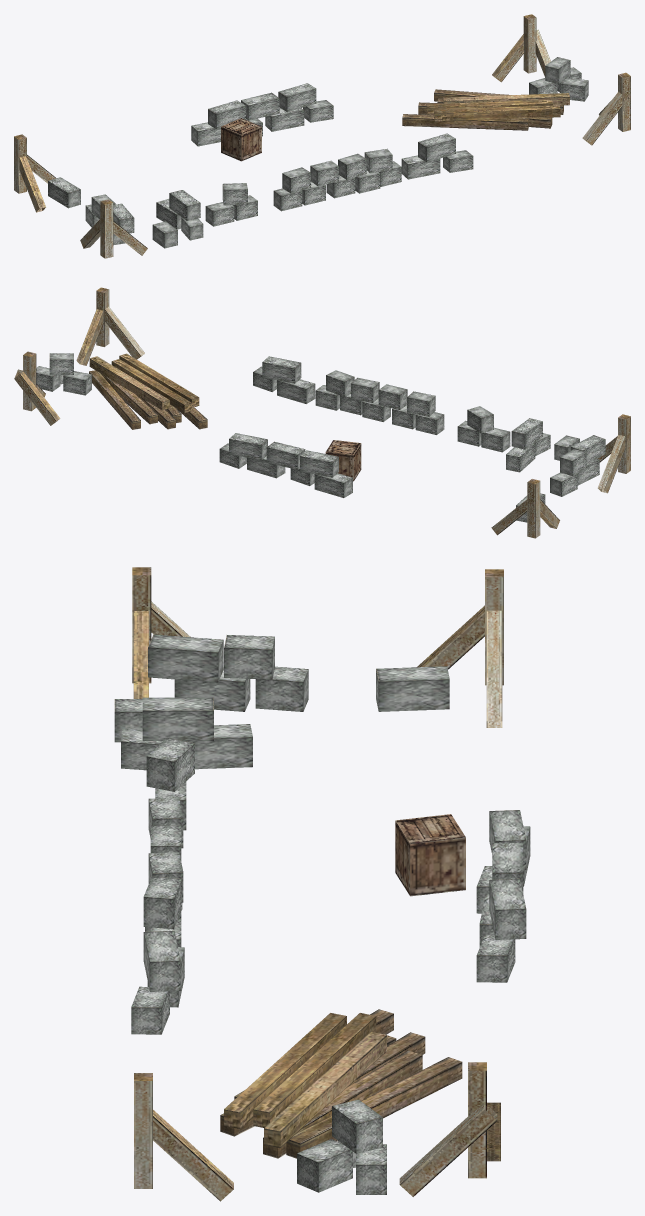
The model's file is found_wall_long_a.dae.
3 renders of one model, top to bottom at view 1: azimuth 30°, elevation 25°; view 2: azimuth 150°, elevation 25°; view 3: azimuth 270°, elevation 25°, orthographic. The views are drawn at different scales.
Visible parts, largest first — view 1: Object14-Pivot; view 2: Object14-Pivot; view 3: Object14-Pivot.
Boxes of the visible parts, x1,y1,x2,y2 form: Object14-Pivot: (14, 14, 630, 258); Object14-Pivot: (14, 287, 630, 538); Object14-Pivot: (114, 567, 530, 1201).
Bounding box in the file's own units: 27.59 × 9.32 × 3.
